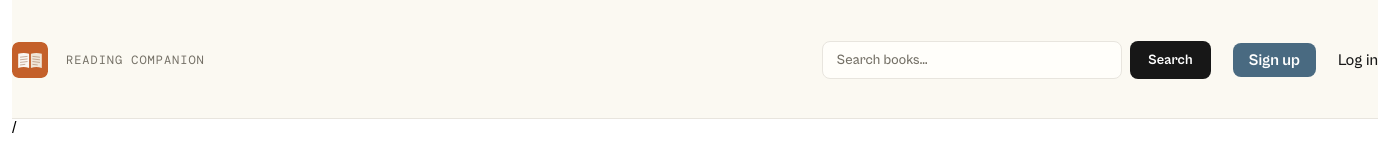
Test case: Header search › URL-encodes spaces in the search query
This screenshot has width=1390, height=160.
Type "clean code" into the search field.
click(972, 60); type("clean code")  # box top-left (822, 41), bottom-right (1122, 79)
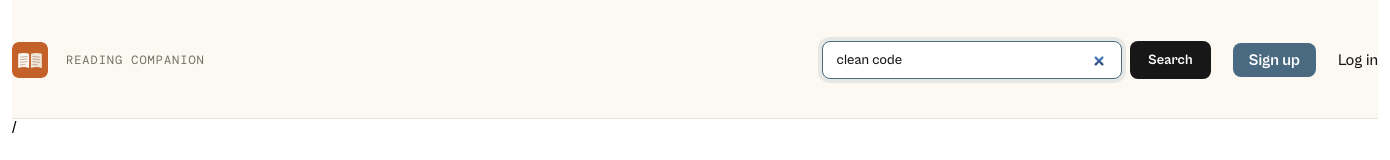
Click the button named "submit search".
click(1170, 60)  # box top-left (1130, 41), bottom-right (1210, 79)
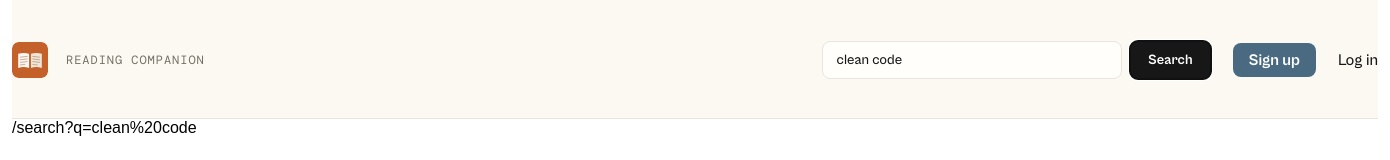
expect the text with test id "location" reads "/search?q=clean%20code": met, box top-left (12, 119), bottom-right (197, 136)
